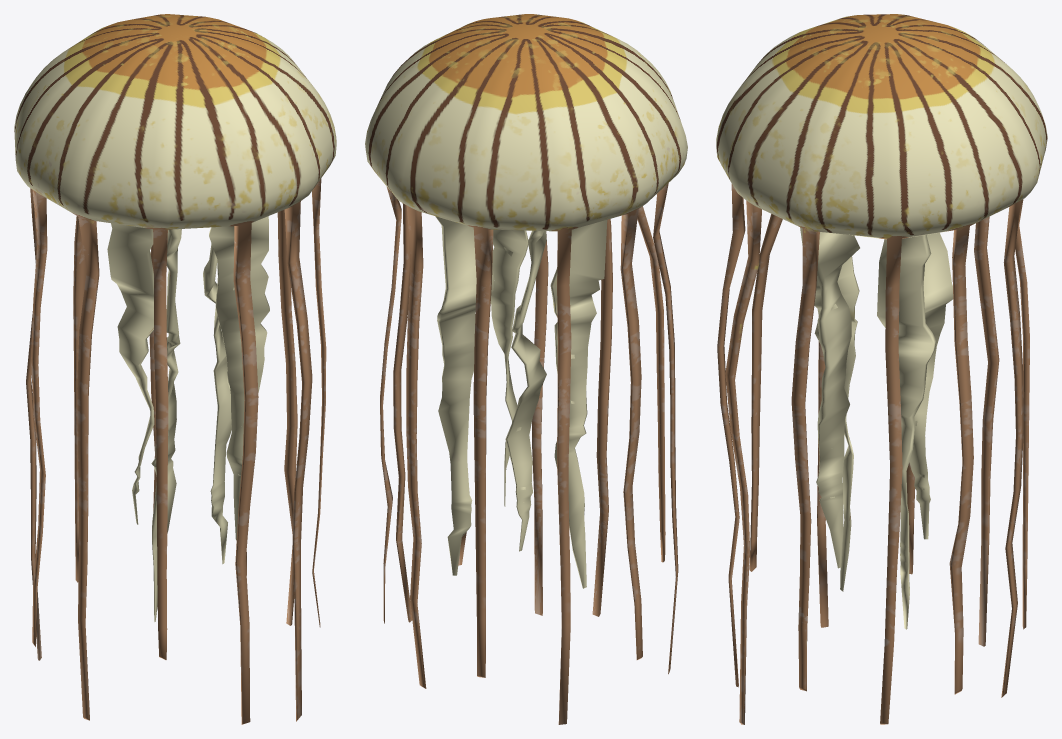
The model's file is chyrsaoraMela01.fbx.
The picture shows the model from 3 angles, left to right: view 1: azimuth 30°, elevation 25°; view 2: azimuth 150°, elevation 25°; view 3: azimuth 270°, elevation 25°; orthographic projection. The views are drawn at different scales.
Parts seen in each view (by area): view 1: chrysaoraMelanaster_temp.001; view 2: chrysaoraMelanaster_temp.001; view 3: chrysaoraMelanaster_temp.001.
Part boxes in pixels (box(x1,y1,x2,y2)): chrysaoraMelanaster_temp.001: box(14, 14, 336, 724); chrysaoraMelanaster_temp.001: box(365, 14, 687, 724); chrysaoraMelanaster_temp.001: box(716, 14, 1047, 724).
Size of the model in its own units: 236 by 525 by 237.
Materials: 1 (1 with a texture image).
